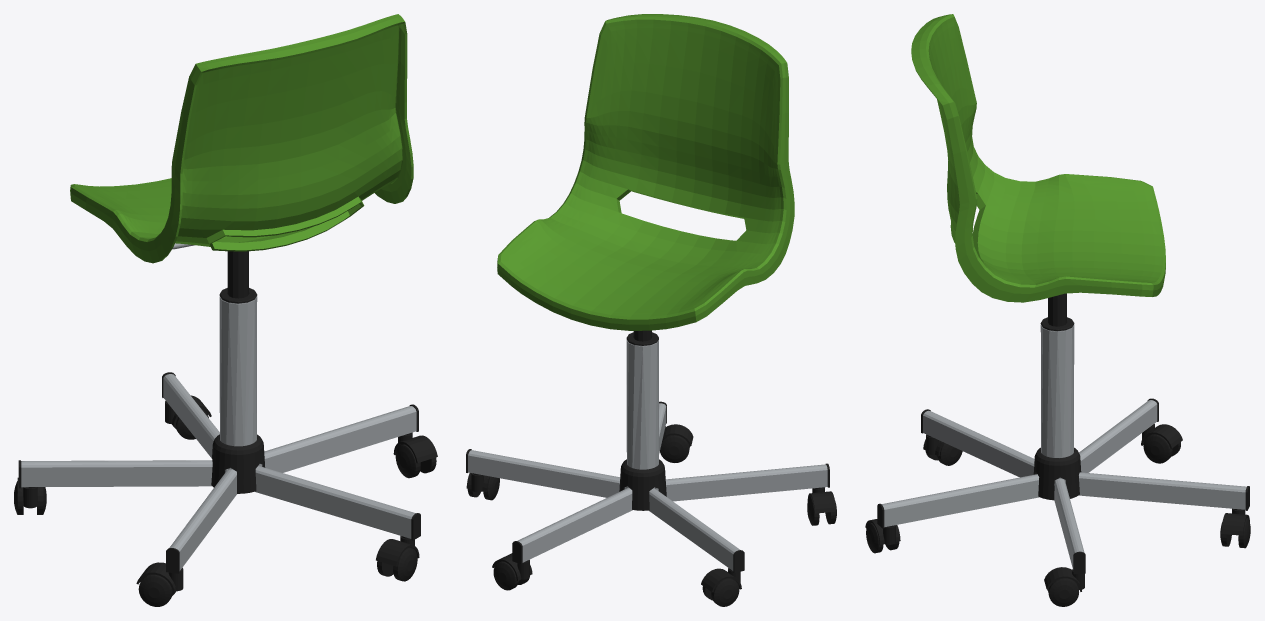
3 views of the same model, side by side, from view 1: azimuth 30°, elevation 25°; view 2: azimuth 150°, elevation 25°; view 3: azimuth 270°, elevation 25° (orthographic). The views are drawn at different scales.
Parts seen in each view (by area): view 1: Mesh2 Group2 SNILLE_IKEA1 Model, Mesh8 Group6 SNILLE_IKEA1 Model, Mesh7 Group5 SNILLE_IKEA1 Model, Mesh1 Group1 SNILLE_IKEA1 Model, Mesh3 Group3 SNILLE_IKEA1 Model, Mesh20 ROULETTE4 SNILLE_IKEA1 Model, Mesh15 ROULETTE3 SNILLE_IKEA1 Model, Mesh12 ROULETTE2 SNILLE_IKEA1 Model, Mesh18 ROULETTE4 SNILLE_IKEA1 Model, Mesh16 ROULETTE3 SNILLE_IKEA1 Model, Mesh14 ROULETTE2 SNILLE_IKEA1 Model; view 2: Mesh2 Group2 SNILLE_IKEA1 Model, Mesh8 Group6 SNILLE_IKEA1 Model, Mesh7 Group5 SNILLE_IKEA1 Model, Mesh1 Group1 SNILLE_IKEA1 Model, Mesh13 ROULETTE2 SNILLE_IKEA1 Model, Mesh11 ROULETTE1 SNILLE_IKEA1 Model, Mesh18 ROULETTE4 SNILLE_IKEA1 Model, Mesh9 ROULETTE1 SNILLE_IKEA1 Model, Mesh23 ROULETTE5 SNILLE_IKEA1 Model; view 3: Mesh2 Group2 SNILLE_IKEA1 Model, Mesh8 Group6 SNILLE_IKEA1 Model, Mesh7 Group5 SNILLE_IKEA1 Model, Mesh1 Group1 SNILLE_IKEA1 Model, Mesh3 Group3 SNILLE_IKEA1 Model, Mesh17 ROULETTE3 SNILLE_IKEA1 Model, Mesh10 ROULETTE1 SNILLE_IKEA1 Model, Mesh21 ROULETTE5 SNILLE_IKEA1 Model, Mesh9 ROULETTE1 SNILLE_IKEA1 Model, Mesh15 ROULETTE3 SNILLE_IKEA1 Model.
Part boxes in pixels (x1,y1,x2,y2): Mesh2 Group2 SNILLE_IKEA1 Model: [70, 14, 413, 263]; Mesh8 Group6 SNILLE_IKEA1 Model: [18, 372, 420, 573]; Mesh7 Group5 SNILLE_IKEA1 Model: [219, 296, 257, 446]; Mesh1 Group1 SNILLE_IKEA1 Model: [211, 434, 265, 493]; Mesh3 Group3 SNILLE_IKEA1 Model: [219, 251, 257, 303]; Mesh20 ROULETTE4 SNILLE_IKEA1 Model: [138, 574, 172, 606]; Mesh15 ROULETTE3 SNILLE_IKEA1 Model: [393, 432, 437, 463]; Mesh12 ROULETTE2 SNILLE_IKEA1 Model: [376, 536, 419, 566]; Mesh18 ROULETTE4 SNILLE_IKEA1 Model: [136, 562, 183, 593]; Mesh16 ROULETTE3 SNILLE_IKEA1 Model: [395, 444, 420, 478]; Mesh14 ROULETTE2 SNILLE_IKEA1 Model: [393, 547, 417, 581]; Mesh2 Group2 SNILLE_IKEA1 Model: [497, 14, 794, 330]; Mesh8 Group6 SNILLE_IKEA1 Model: [466, 401, 829, 572]; Mesh7 Group5 SNILLE_IKEA1 Model: [626, 340, 658, 469]; Mesh1 Group1 SNILLE_IKEA1 Model: [619, 459, 666, 510]; Mesh13 ROULETTE2 SNILLE_IKEA1 Model: [660, 435, 689, 462]; Mesh11 ROULETTE1 SNILLE_IKEA1 Model: [711, 578, 739, 606]; Mesh18 ROULETTE4 SNILLE_IKEA1 Model: [807, 487, 836, 513]; Mesh9 ROULETTE1 SNILLE_IKEA1 Model: [701, 568, 741, 592]; Mesh23 ROULETTE5 SNILLE_IKEA1 Model: [493, 561, 518, 590]; Mesh2 Group2 SNILLE_IKEA1 Model: [911, 14, 1165, 302]; Mesh8 Group6 SNILLE_IKEA1 Model: [877, 398, 1249, 574]; Mesh7 Group5 SNILLE_IKEA1 Model: [1040, 325, 1074, 457]; Mesh1 Group1 SNILLE_IKEA1 Model: [1033, 447, 1081, 500]; Mesh3 Group3 SNILLE_IKEA1 Model: [1040, 293, 1074, 331]; Mesh17 ROULETTE3 SNILLE_IKEA1 Model: [1048, 578, 1078, 606]; Mesh10 ROULETTE1 SNILLE_IKEA1 Model: [1143, 434, 1172, 463]; Mesh21 ROULETTE5 SNILLE_IKEA1 Model: [1221, 508, 1249, 535]; Mesh9 ROULETTE1 SNILLE_IKEA1 Model: [1141, 424, 1182, 448]; Mesh15 ROULETTE3 SNILLE_IKEA1 Model: [1044, 567, 1084, 591].
Bounding box in the file's own units: 0.5786 × 0.8132 × 0.5974.
